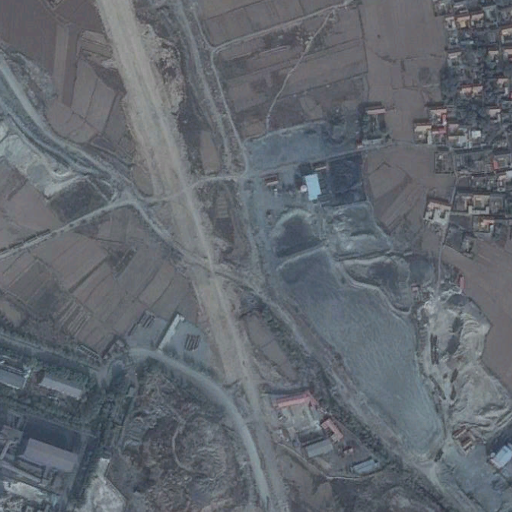tp: (267, 208, 446, 456)
